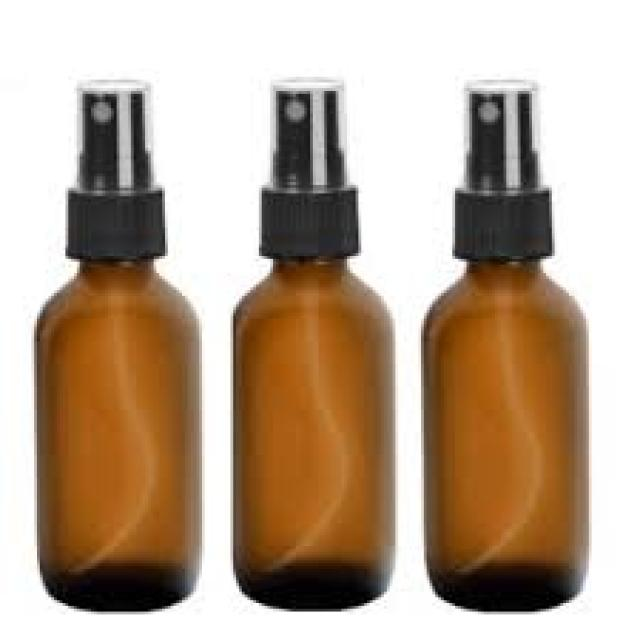glass: (424, 262, 586, 609), (37, 262, 196, 609), (233, 262, 393, 603)
